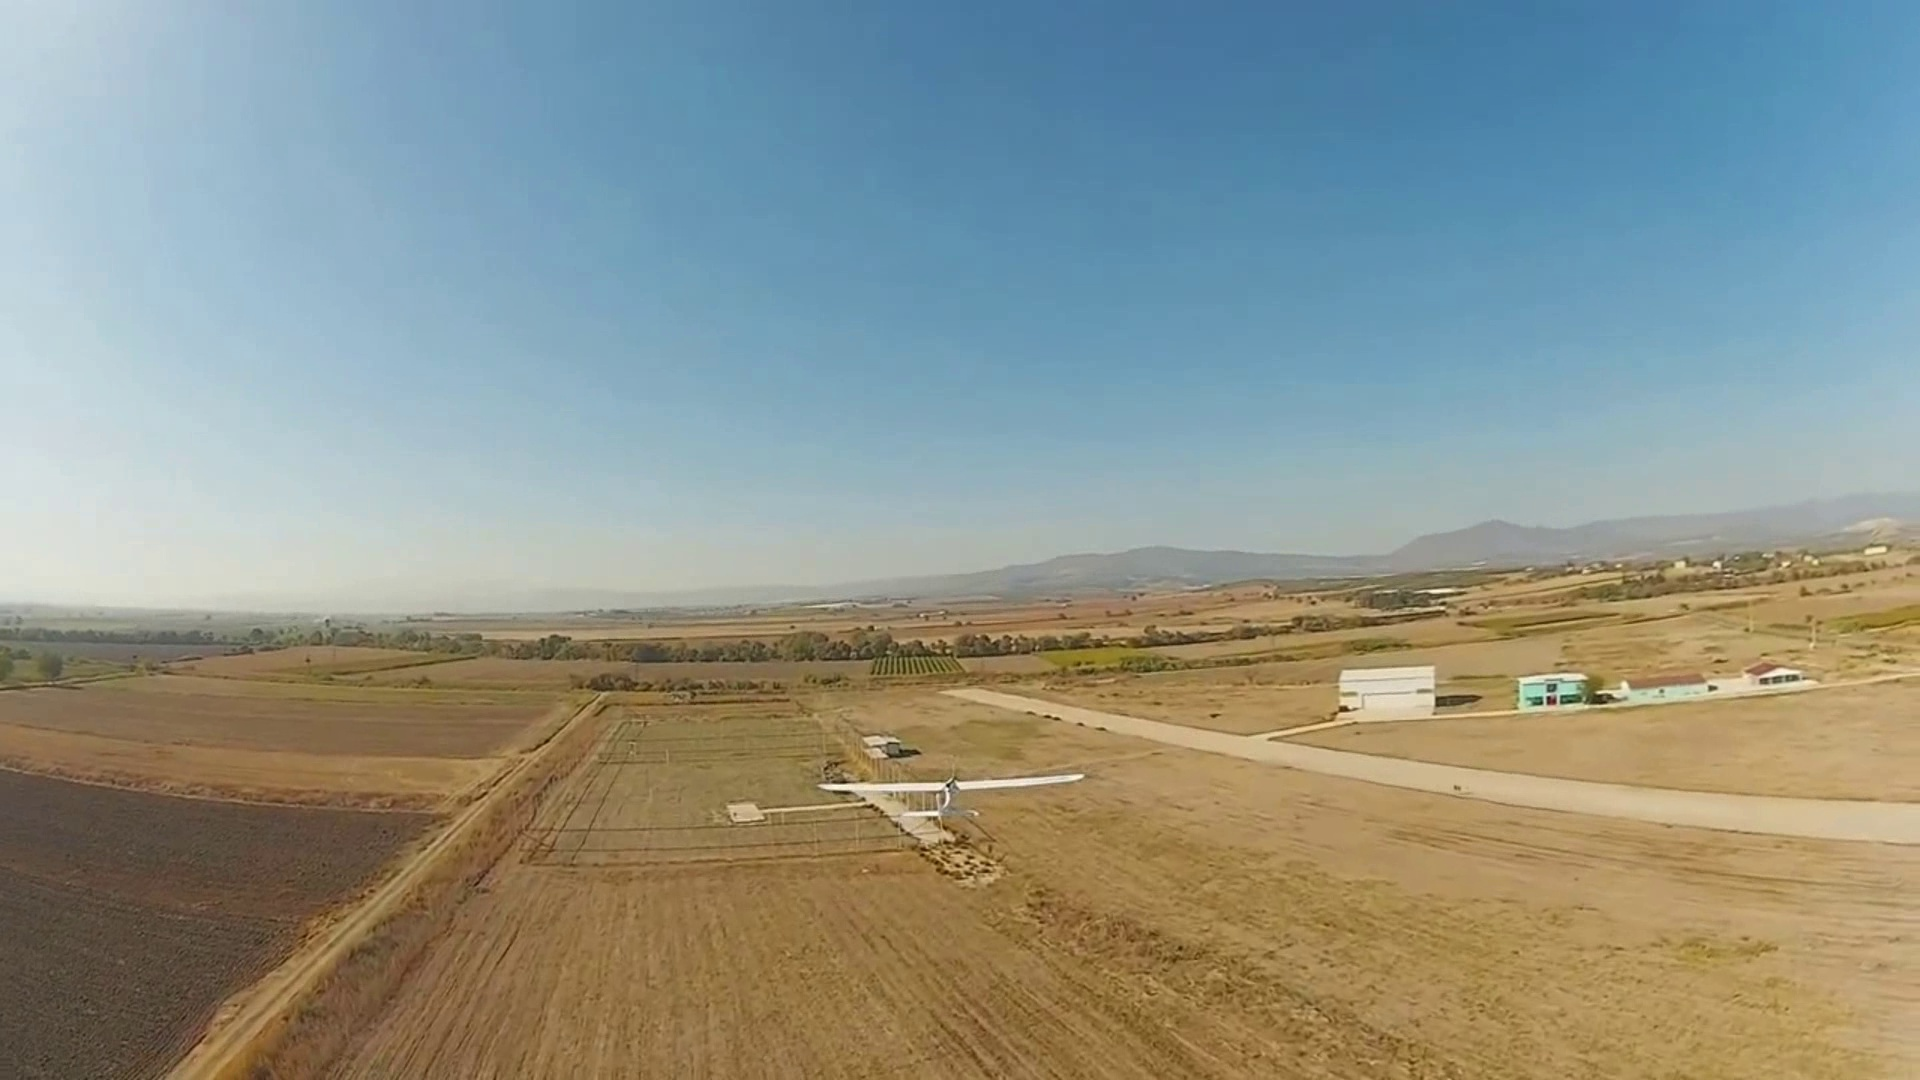airplane: (819, 743, 1086, 838)
